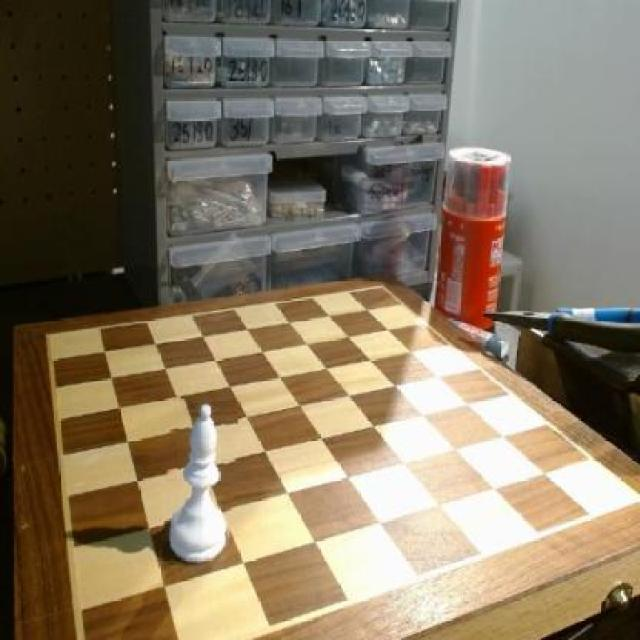black-rook: (165, 400, 236, 568)
